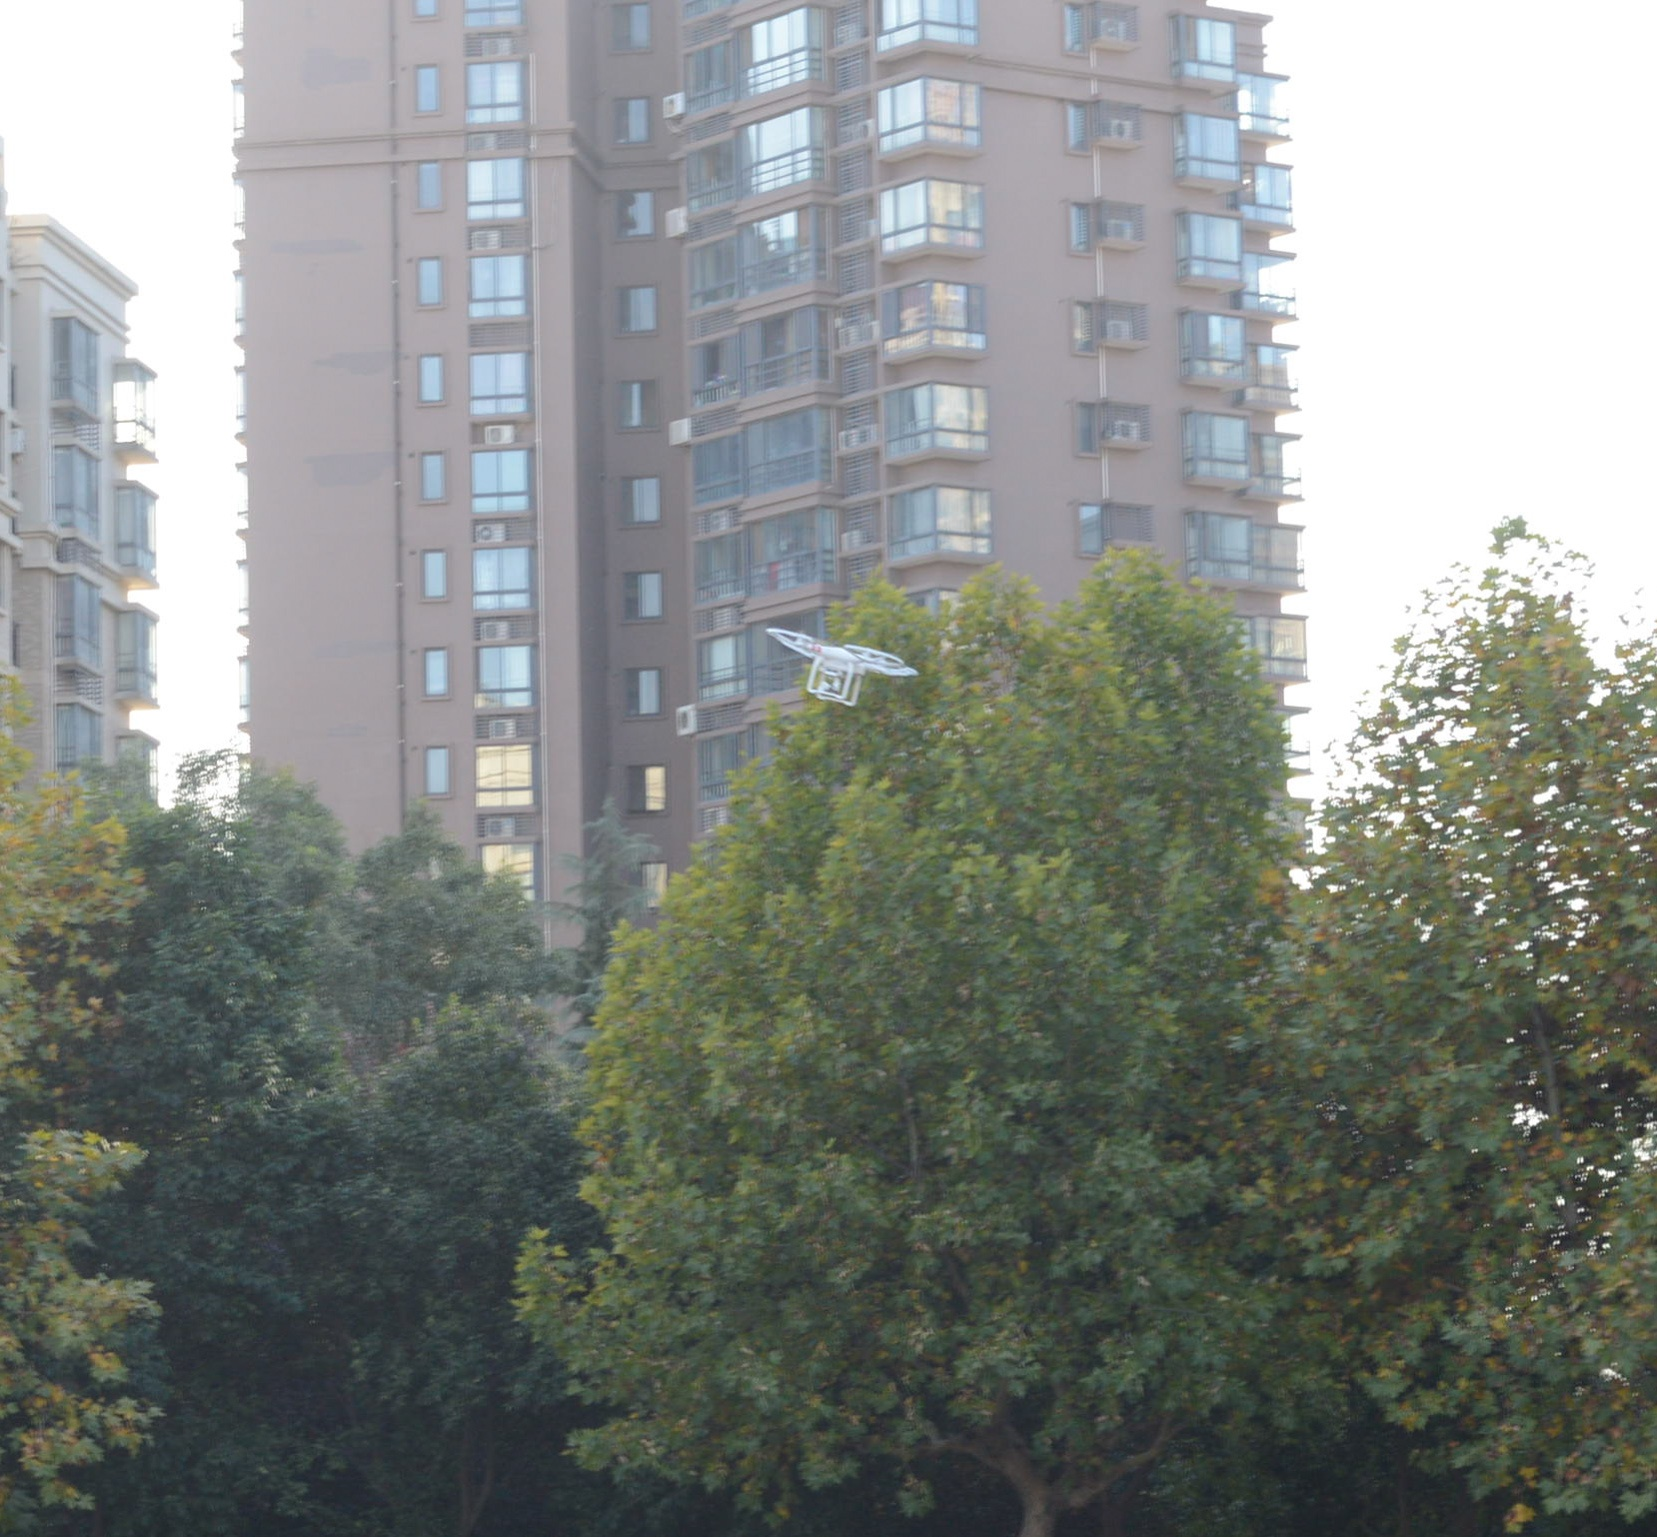DJI: (764, 620, 923, 706)
